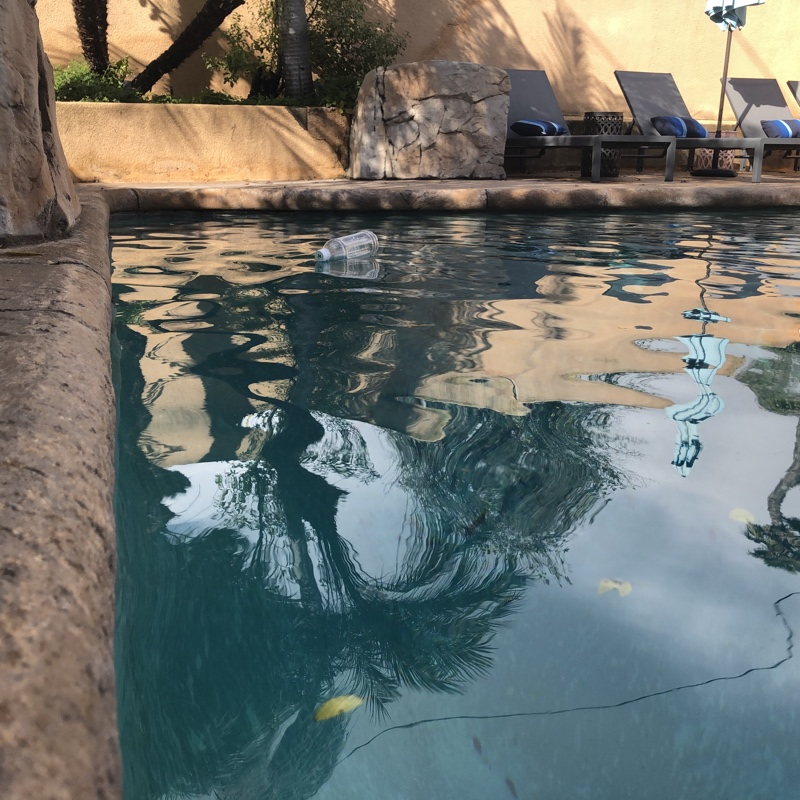Plastic Bottle: (314, 229, 381, 262)
